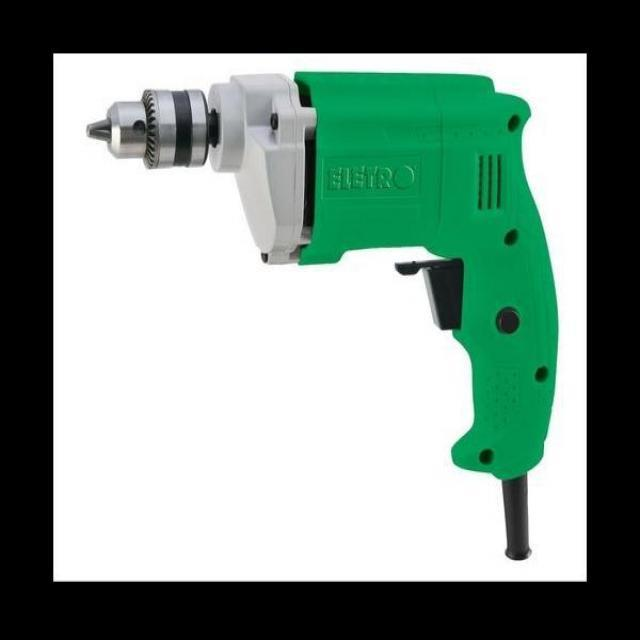drill: (86, 70, 560, 562)
